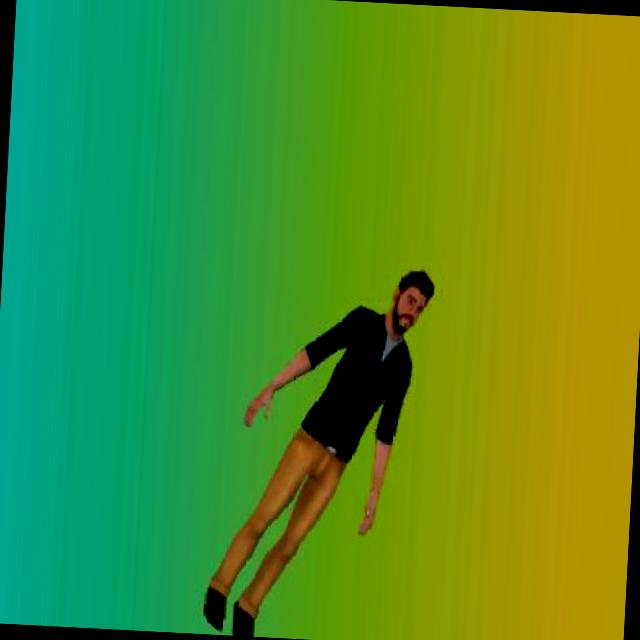Person: (198, 253, 441, 640)
